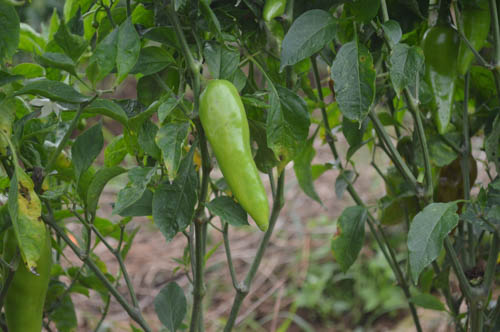ChiliPepper: (202, 81, 270, 234), (2, 226, 51, 331), (421, 25, 453, 132), (456, 8, 492, 73)
